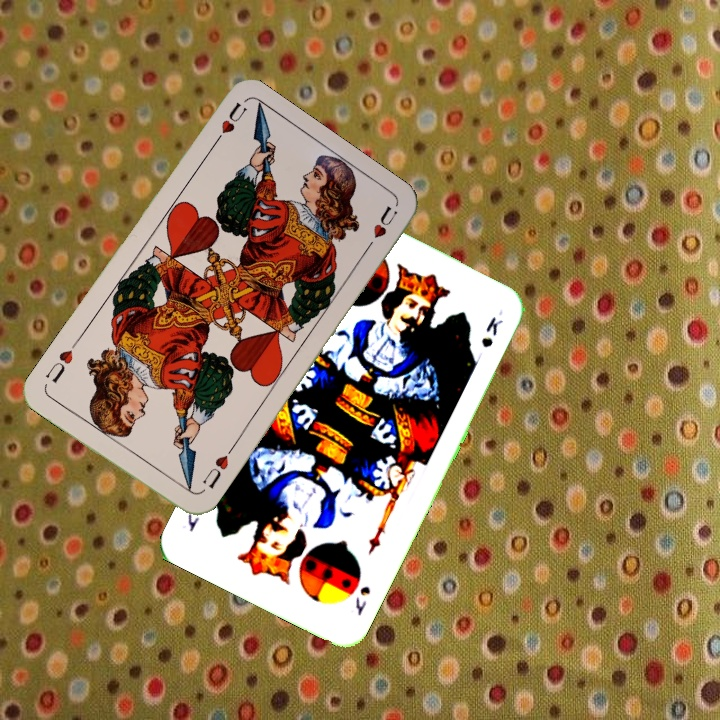HU: (207, 98, 249, 150), (198, 451, 232, 491)
SK: (351, 582, 373, 618)
